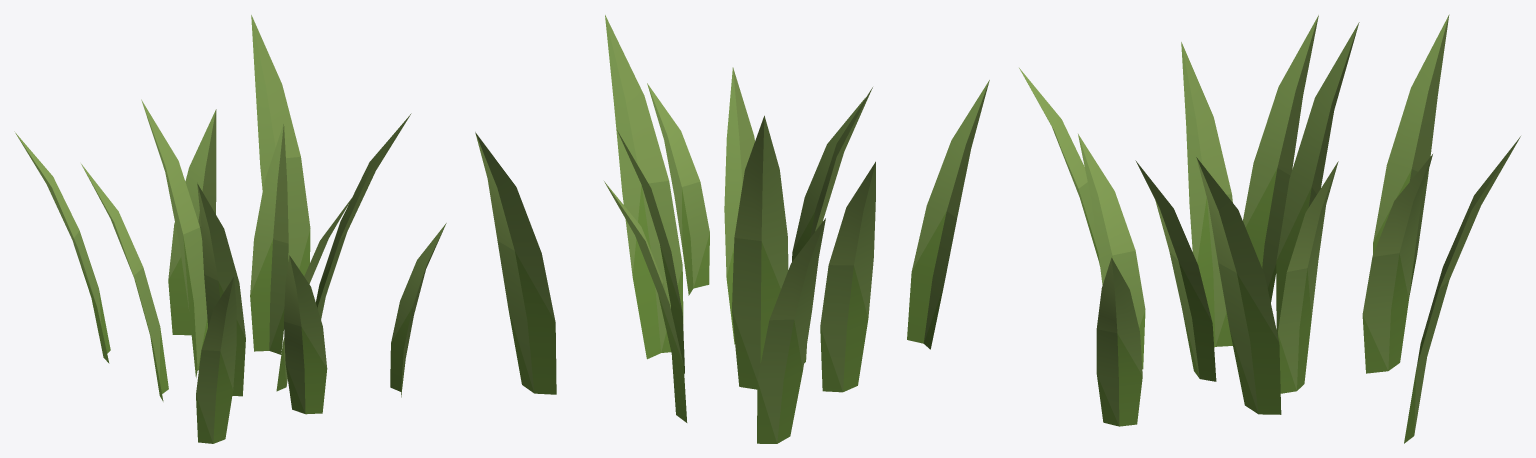
File: itch_kaykit_forest_grass_2_d_singlesided_color1.glb
3 views of the same model, side by side, from view 1: azimuth 30°, elevation 25°; view 2: azimuth 150°, elevation 25°; view 3: azimuth 270°, elevation 25° (orthographic). The views are drawn at different scales.
Visible parts, largest first — view 1: Grass_2_D_Singlesided_Color1; view 2: Grass_2_D_Singlesided_Color1; view 3: Grass_2_D_Singlesided_Color1.
Boxes of the visible parts, x1,y1,x2,y2 form: Grass_2_D_Singlesided_Color1: (14,15,446,443); Grass_2_D_Singlesided_Color1: (475,15,989,443); Grass_2_D_Singlesided_Color1: (1019,14,1520,443).
Size of the model in its own units: 0.7743 by 0.6672 by 0.96.
